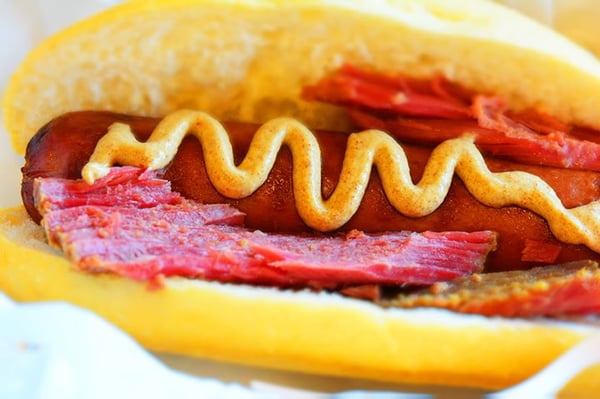burger: (1, 57, 592, 387)
